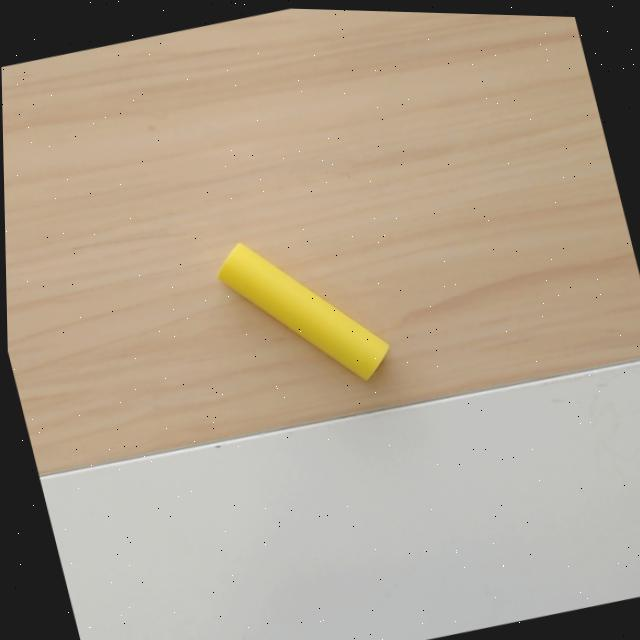Silinder-Kuning-10025: (212, 240, 391, 381)
